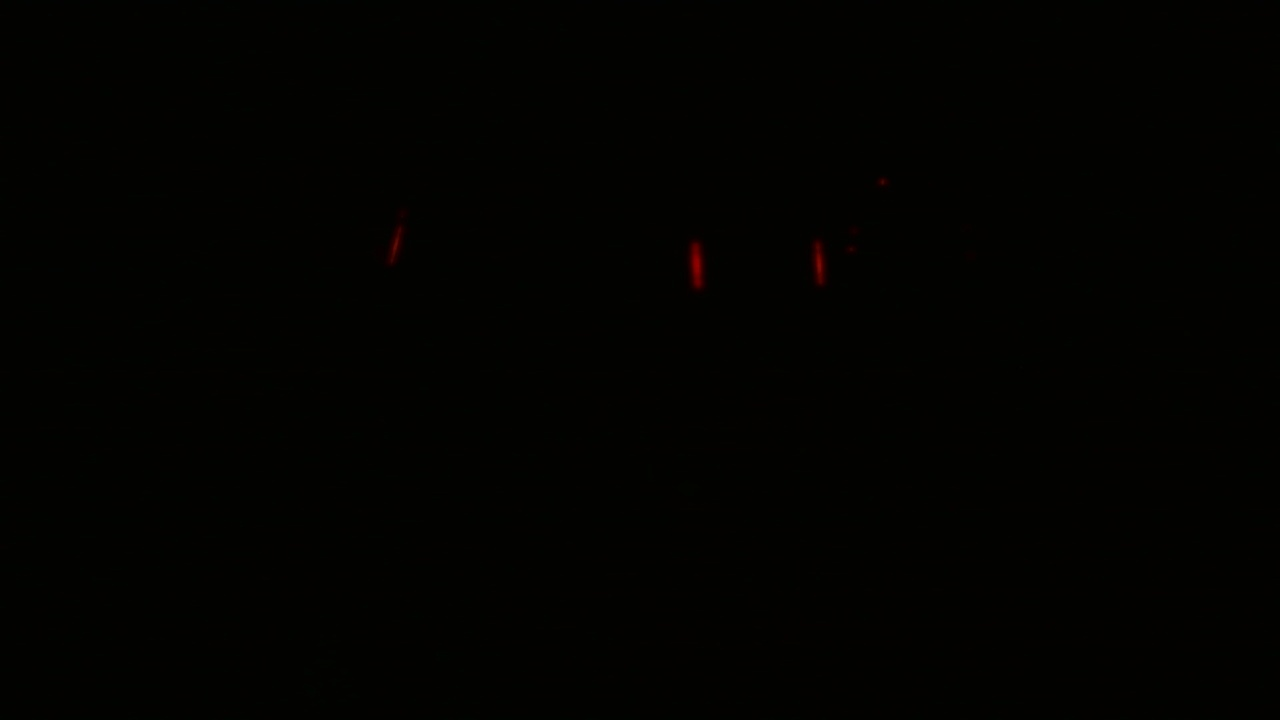pair1: (682, 236, 835, 298)
